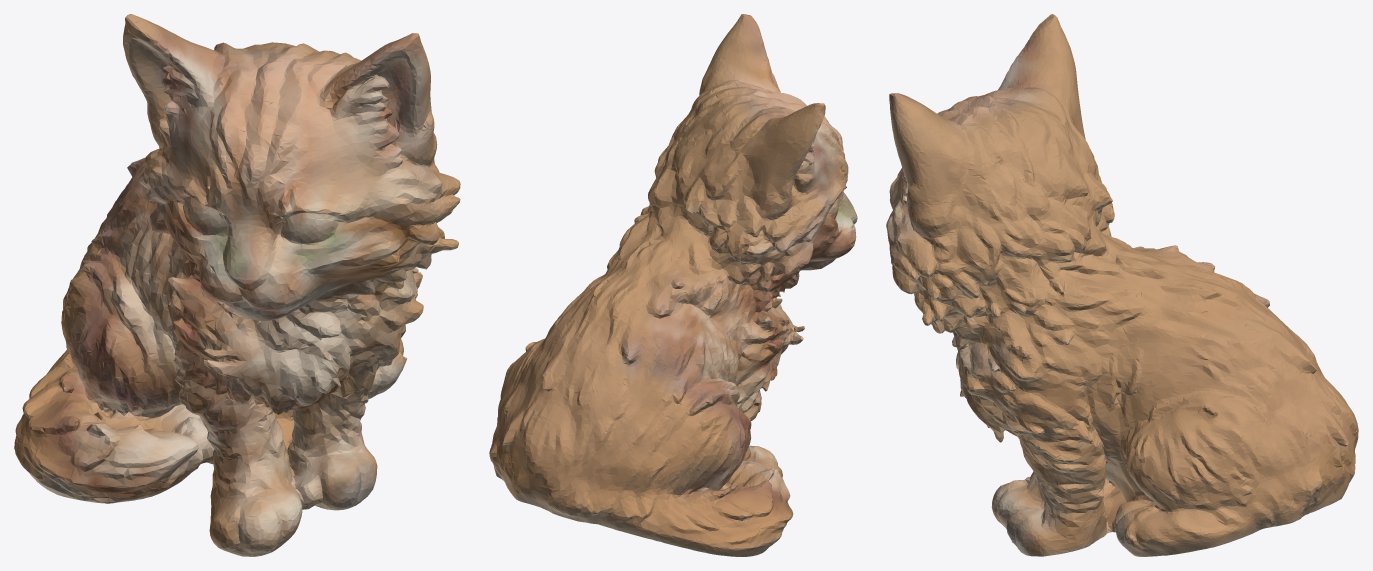
File: coco.glb
The picture shows the model from 3 angles, left to right: view 1: azimuth 30°, elevation 25°; view 2: azimuth 150°, elevation 25°; view 3: azimuth 270°, elevation 25°; orthographic projection. The views are drawn at different scales.
Parts seen in each view (by area): view 1: geometry_0; view 2: geometry_0; view 3: geometry_0.
Boxes of the visible parts, left/top/right/bottom form: geometry_0: left=14, top=14, right=460, bottom=556; geometry_0: left=489, top=14, right=857, bottom=556; geometry_0: left=886, top=14, right=1358, bottom=556.
Size of the model in its own units: 0.6837 by 1 by 0.9097.
